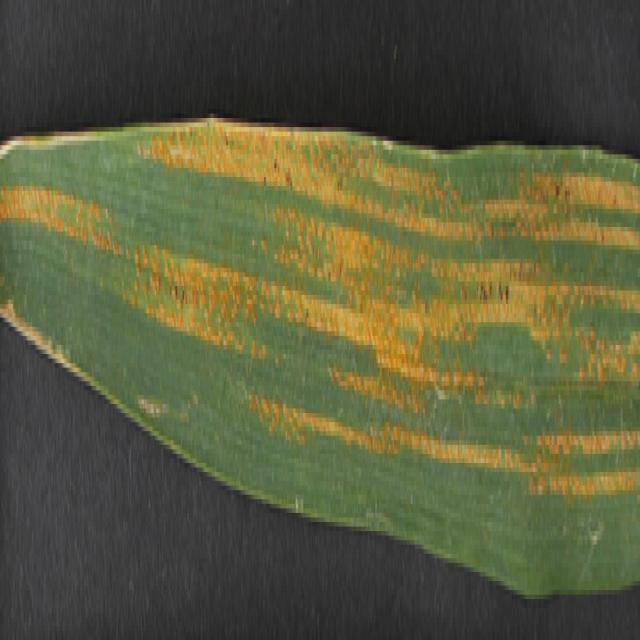leaf rust: (0, 82, 638, 504)
